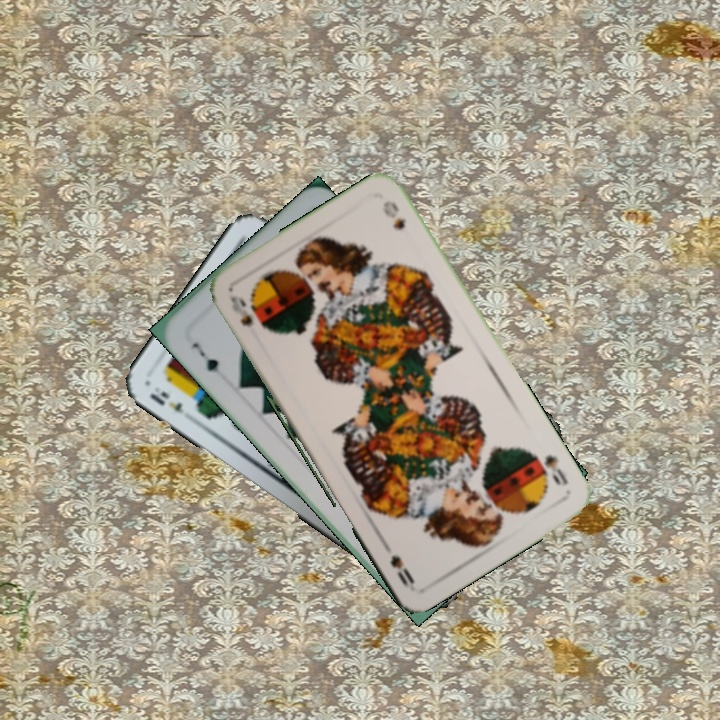EK: (146, 387, 186, 417)
G7: (187, 338, 222, 375)
SO: (529, 449, 571, 488), (226, 291, 256, 330)
